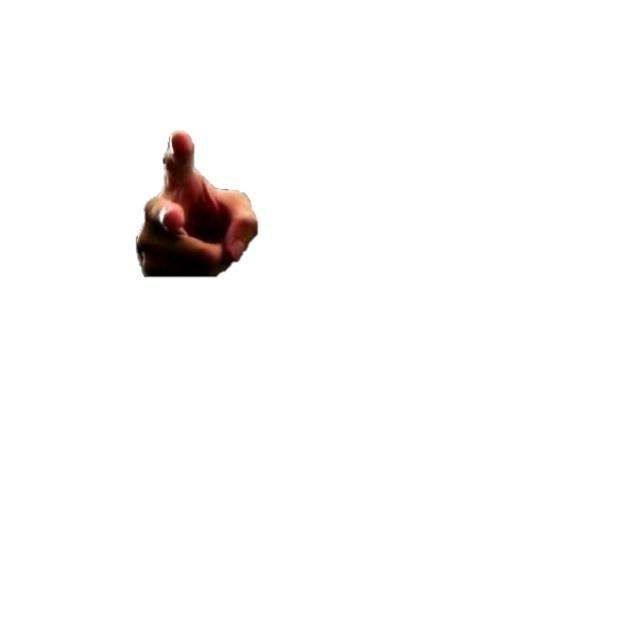tyoki: (134, 129, 261, 281)
